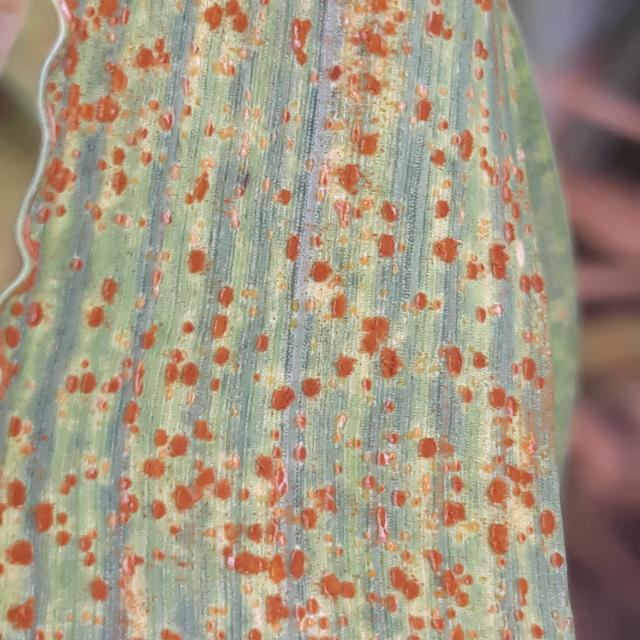orang_rust: (0, 0, 583, 640)
